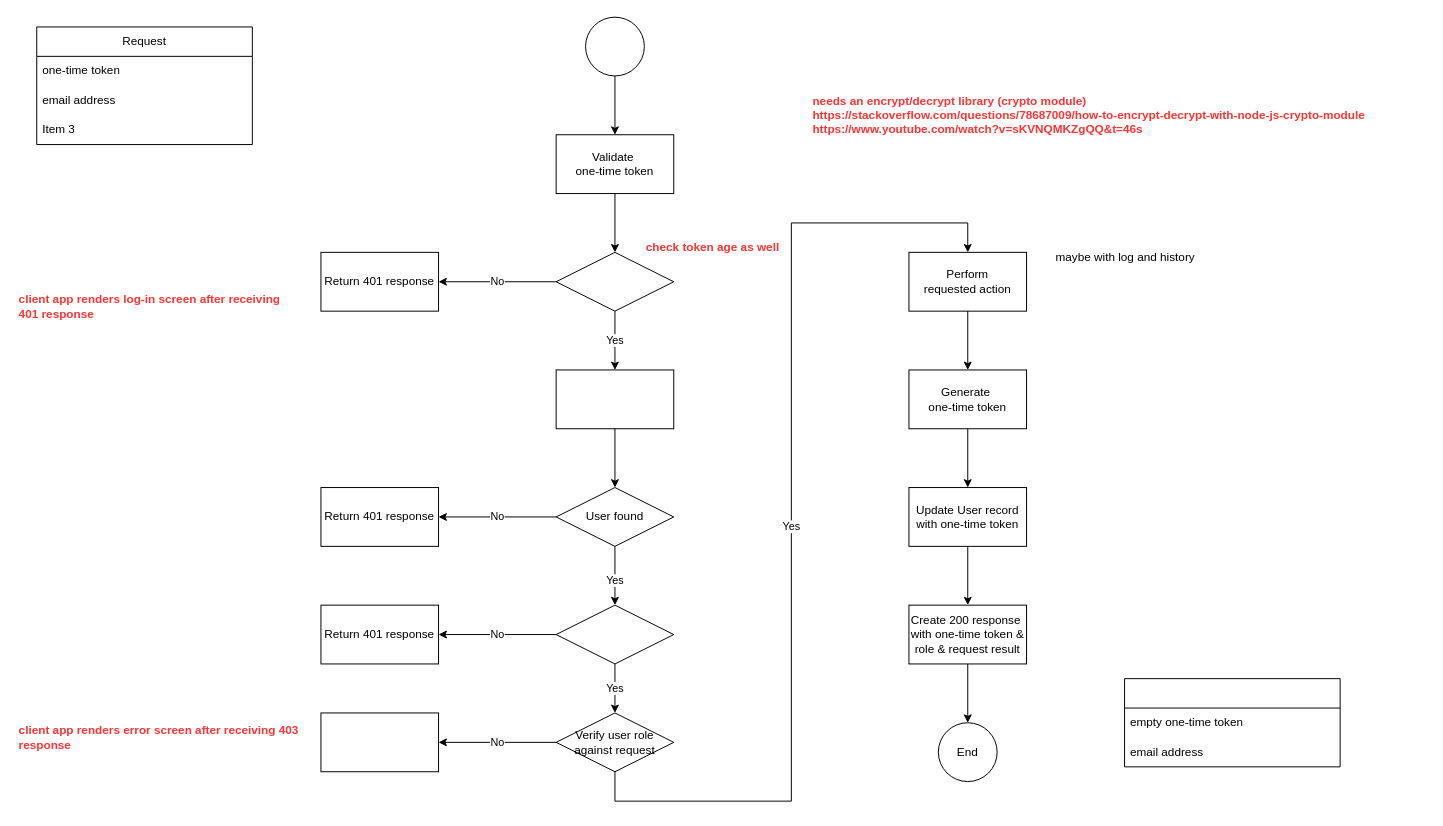
This 1443x826 diagram has some shape labels left out. Each missing label, with the box of its shape:
Look up User with email address: (555, 369, 674, 429)
Response: (1124, 678, 1340, 767)
Return 403 response: (320, 712, 439, 772)
Start: (585, 16, 644, 76)
token valid: (555, 251, 674, 311)
User token match one-time token: (555, 604, 674, 664)
